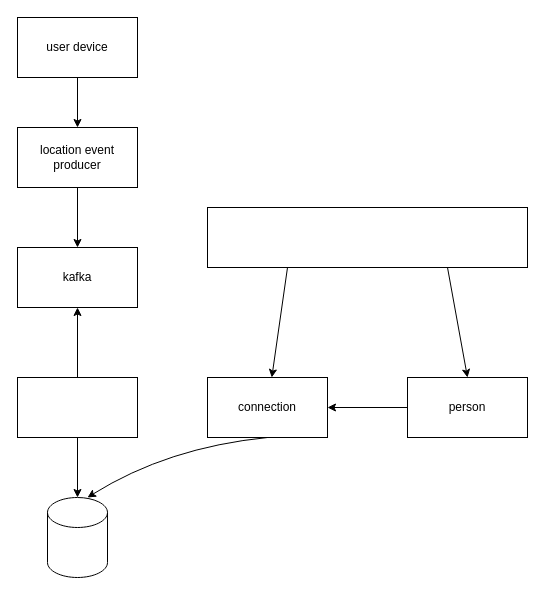
Image size: 545x595. Some labels were removed from this diagram. The shapes that lost their labels are listed below. From the top down, each one's centre as x and y in pixels, then its label:
(367,237): frontend
(77,407): location event consumer
